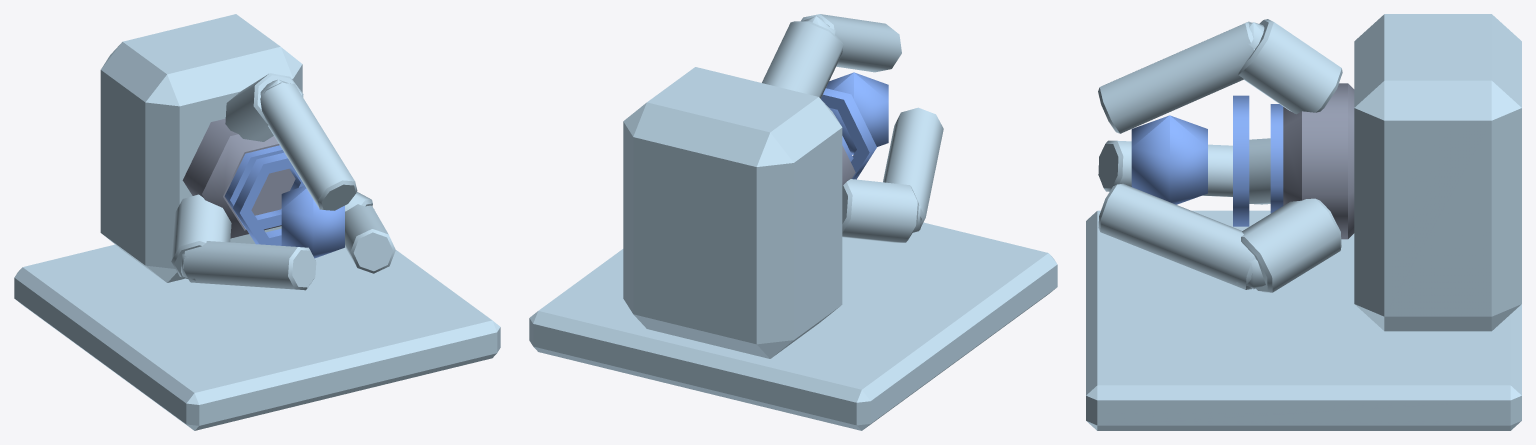
File: R4X_DirectionalEMP_LOD1.glb
3 views of the same model, side by side, from view 1: azimuth 30°, elevation 25°; view 2: azimuth 150°, elevation 25°; view 3: azimuth 270°, elevation 25° (orthographic). The views are drawn at different scales.
Parts seen in each view (by area): view 1: R4X_DirectionalEMP_LOD1; view 2: R4X_DirectionalEMP_LOD1; view 3: R4X_DirectionalEMP_LOD1.
Boxes of the visible parts, bbox=[...] form: R4X_DirectionalEMP_LOD1: bbox=[14, 14, 500, 430]; R4X_DirectionalEMP_LOD1: bbox=[529, 14, 1057, 430]; R4X_DirectionalEMP_LOD1: bbox=[1086, 14, 1521, 430].
Bounding box in the file's own units: 0.52 × 0.4234 × 0.52.
